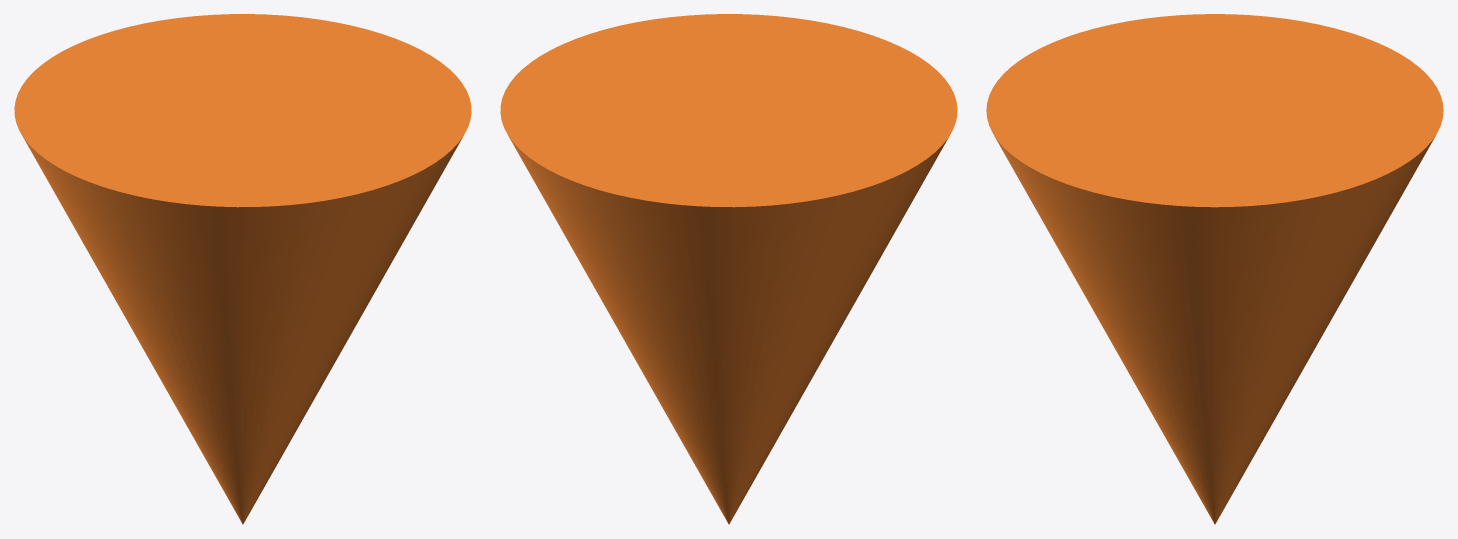
3 renders of one model, left to right at view 1: azimuth 30°, elevation 25°; view 2: azimuth 150°, elevation 25°; view 3: azimuth 270°, elevation 25°, orthographic.
Parts seen in each view (by area): view 1: node_id5; view 2: node_id5; view 3: node_id5.
Part boxes in pixels (<box>): node_id5: <box>14,14,471,524</box>; node_id5: <box>500,14,957,524</box>; node_id5: <box>986,14,1443,524</box>.
Bounding box in the file's own units: 0.512 × 0.512 × 0.512.
1 material, 1 textured.
